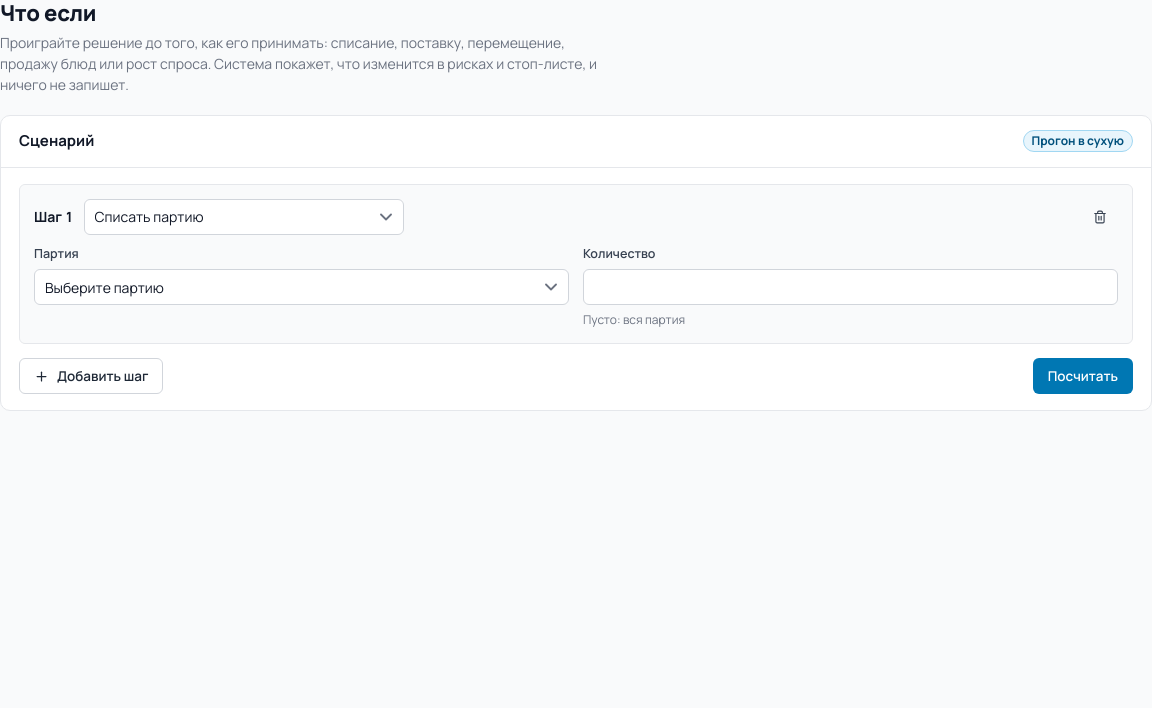
Test: страница › отправляет сценарий по выбранной точке и показывает ответ
Select "Сыр · Центр · до 16.10.2026 · 5 kg" in the dropdown labelled "Партия" at (302, 287), box [34,269,569,305]
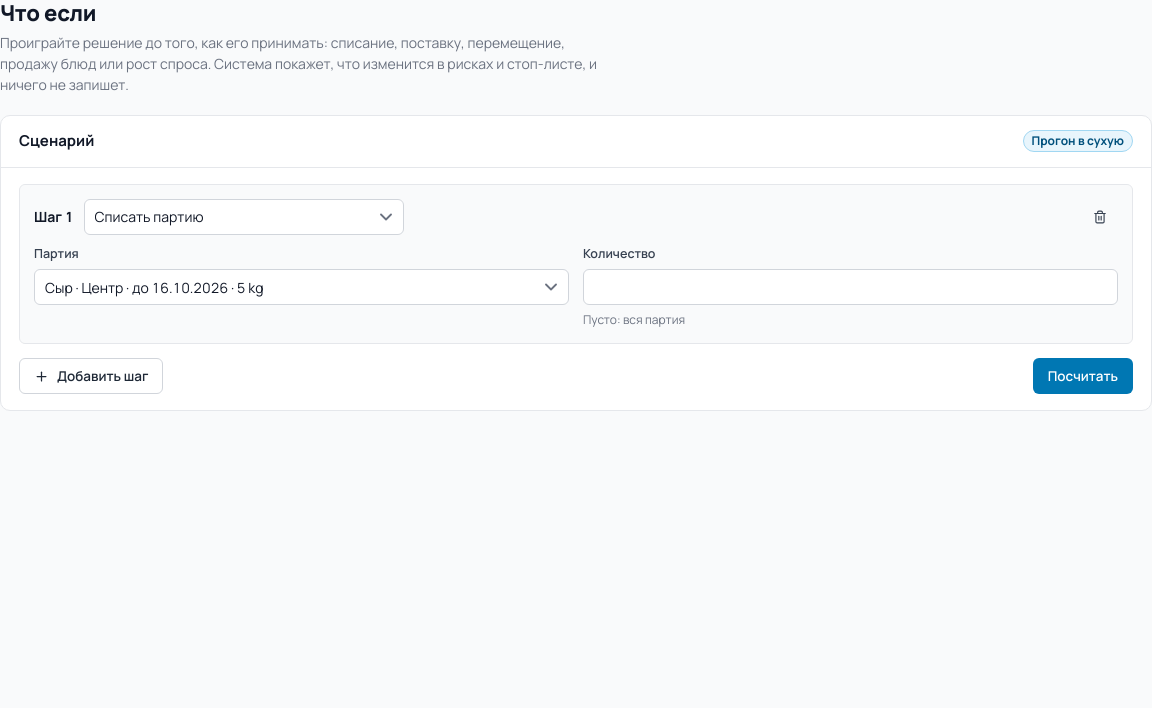
Click the button "Посчитать" at (1083, 376), box [1033,358,1133,394]
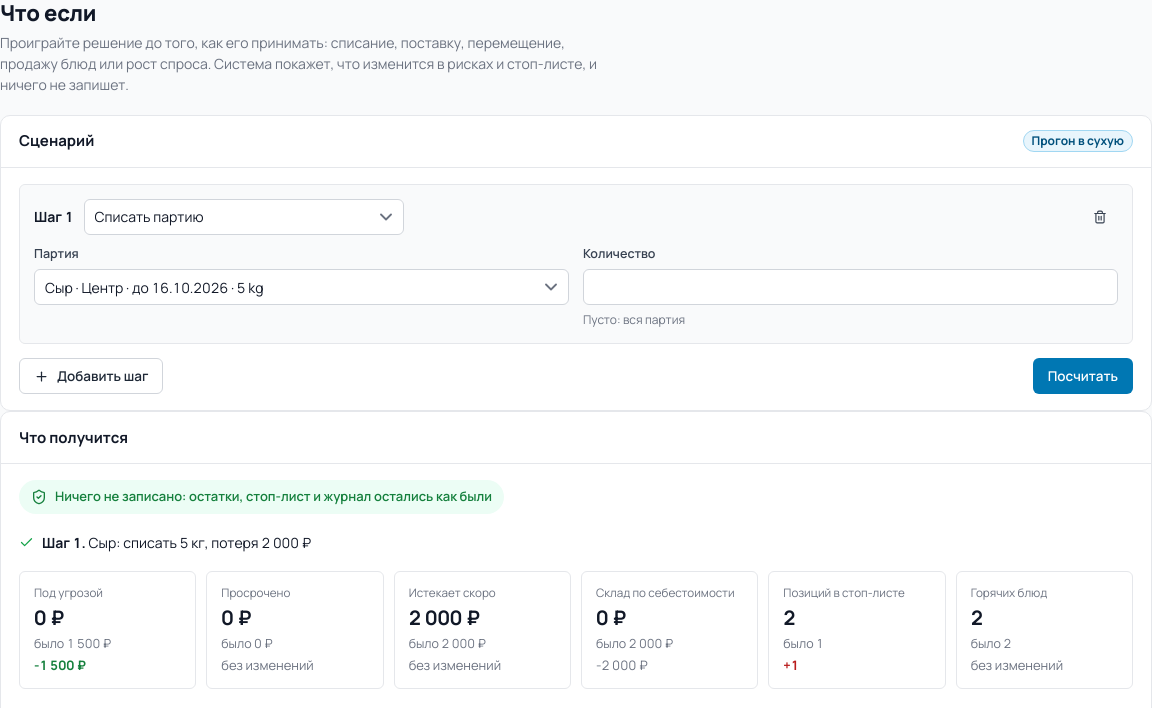
Expected: the text "Ничего не записано" is shown, [55,487,492,505]
